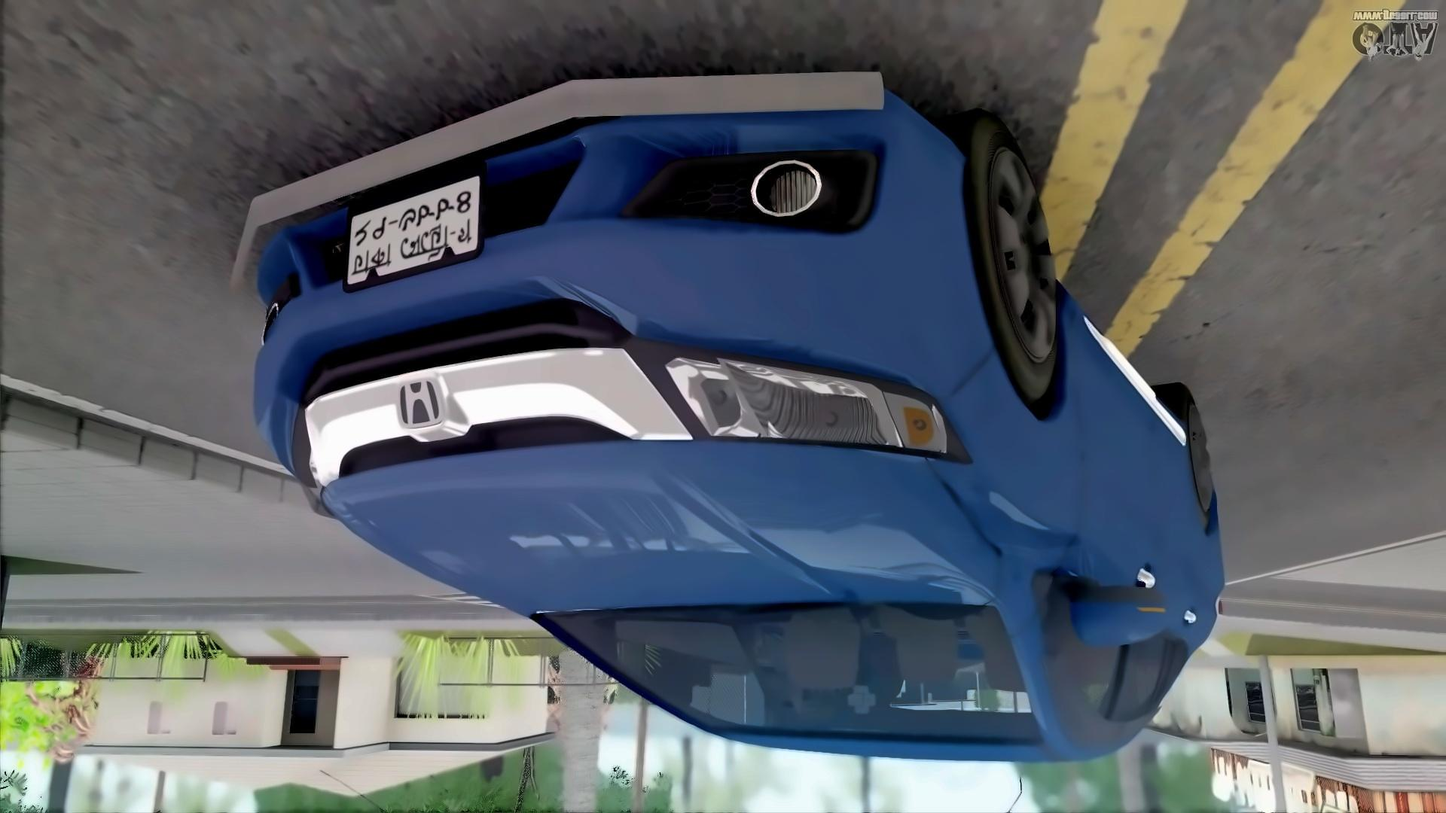Car hood: (308, 437, 1042, 619)
Driver-s door - -F-R-: (1003, 211, 1145, 767)
Fender - -F-R-: (929, 284, 1091, 654)
Front bumper: (232, 53, 1006, 411)
Headlight - -R-: (643, 343, 969, 464)
Passenger-s door - -R-R-: (1100, 301, 1208, 781)
Side bumper - -R-: (1062, 291, 1203, 490)
Side mirror - -R-: (1057, 584, 1169, 646)
